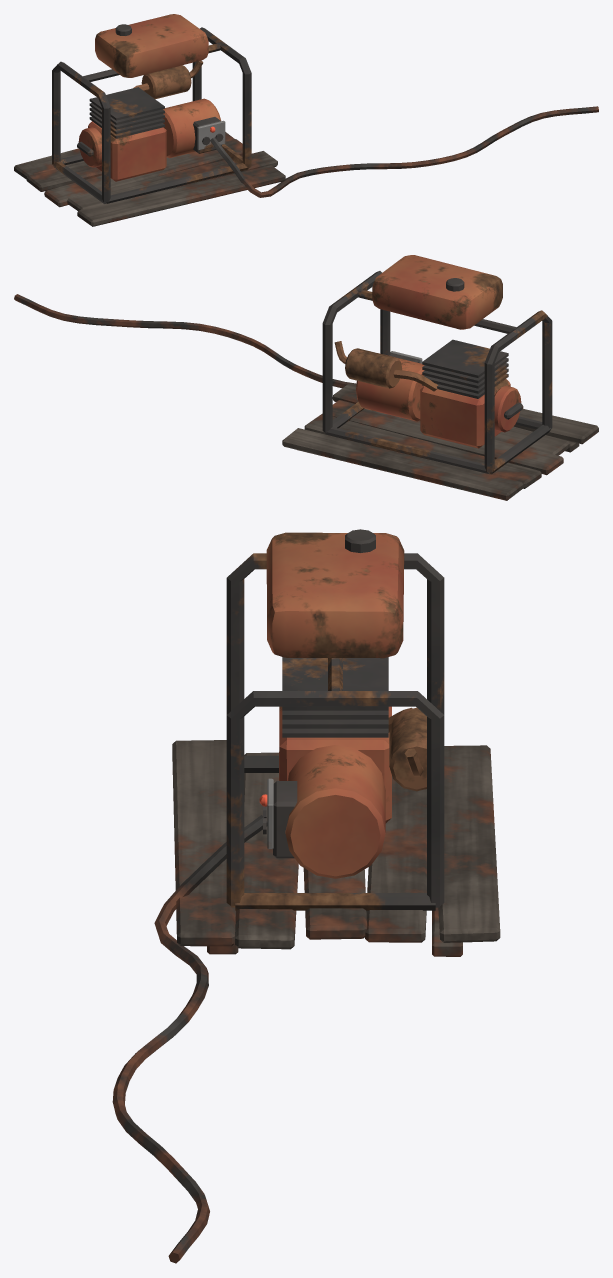
Rendered from Generator.fbx.
The picture shows the model from 3 angles, top to bottom: view 1: azimuth 30°, elevation 25°; view 2: azimuth 150°, elevation 25°; view 3: azimuth 270°, elevation 25°; orthographic projection. The views are drawn at different scales.
Parts seen in each view (by area): view 1: Generator; view 2: Generator; view 3: Generator.
Boxes of the visible parts, bbox=[...] form: Generator: bbox=[14, 14, 598, 226]; Generator: bbox=[14, 255, 598, 500]; Generator: bbox=[112, 529, 500, 1263].
Size of the model in its own units: 263 by 77.63 by 86.73.
Materials: 1 (1 with a texture image).
